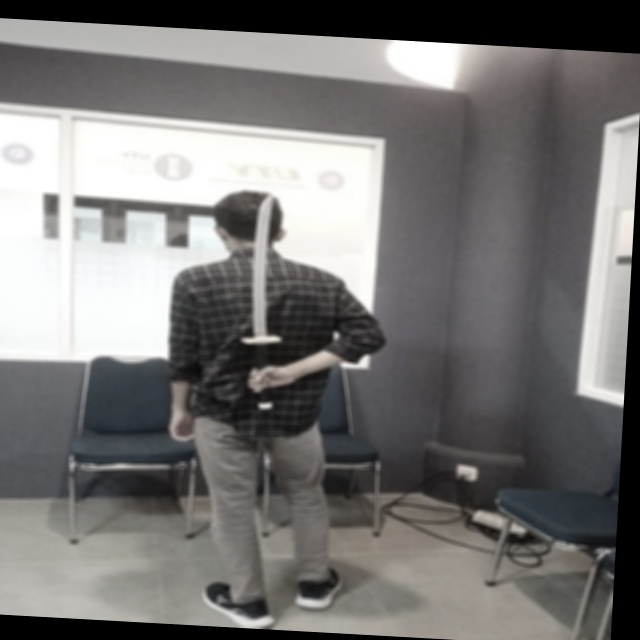Sharp-Object: (220, 191, 305, 419)
